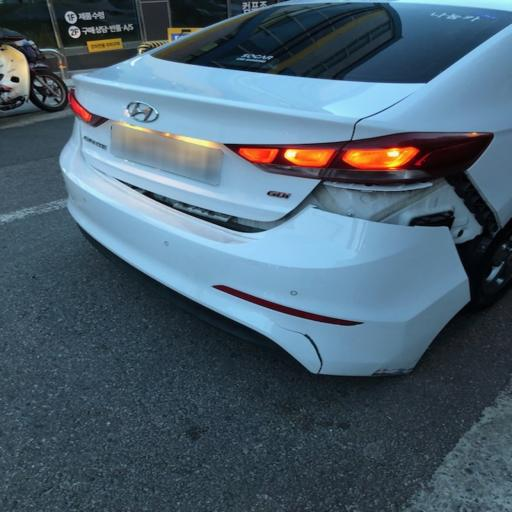broken: (86, 57, 462, 386)
